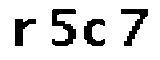5: (43, 5, 81, 52)
7: (116, 4, 153, 52)
c: (82, 16, 110, 48)
r: (12, 15, 37, 48)
